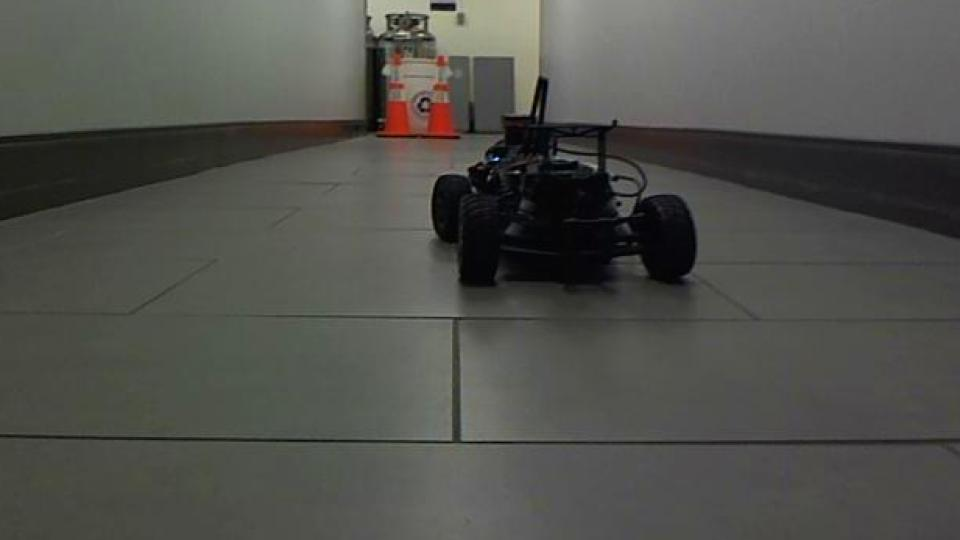car: (429, 75, 701, 290)
